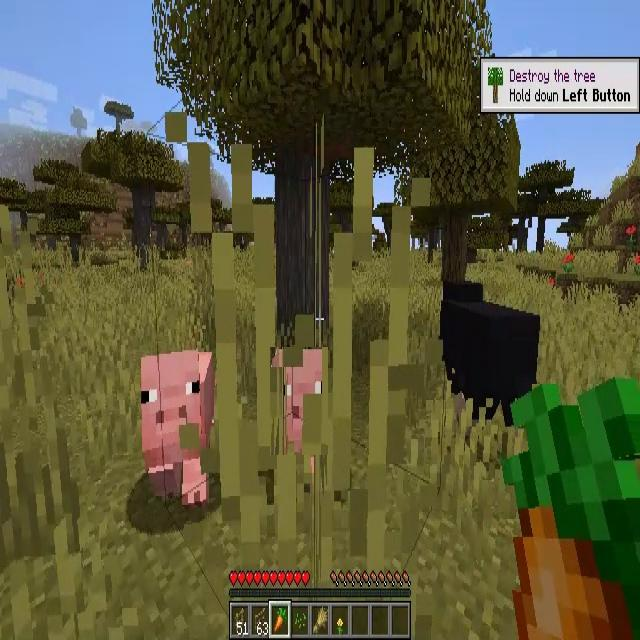pig: (142, 354, 209, 501), (270, 348, 328, 456)
sheep: (436, 282, 540, 433)
